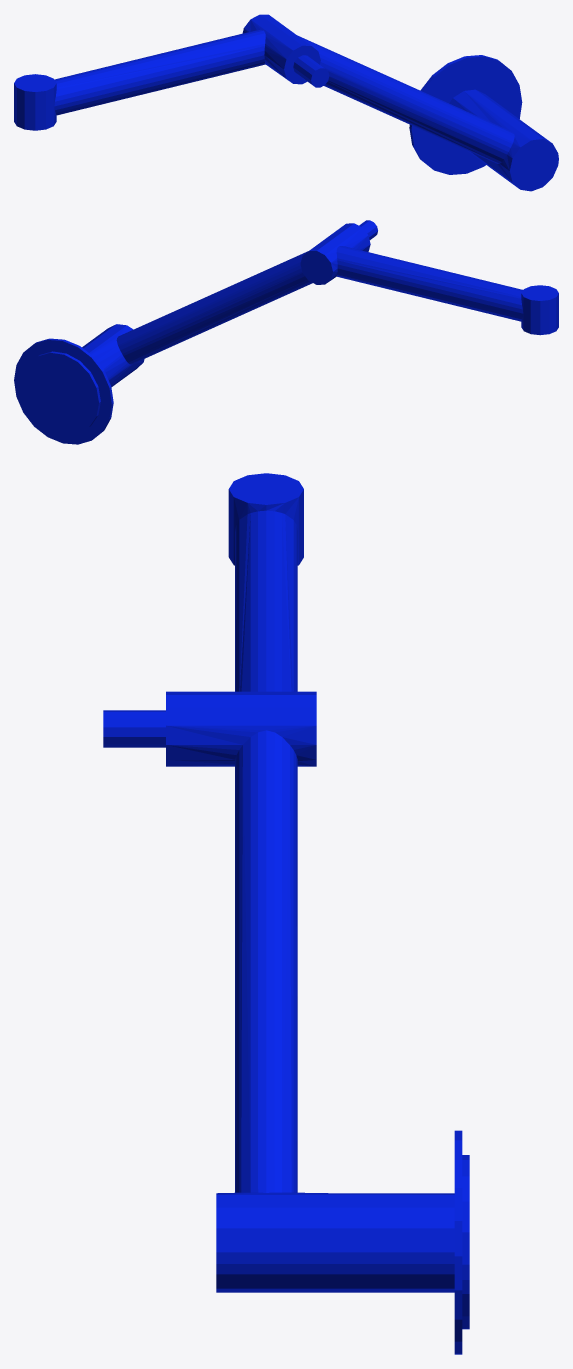
Rendered from LeftViceRocket.dae.
The picture shows the model from 3 angles, top to bottom: view 1: azimuth 30°, elevation 25°; view 2: azimuth 150°, elevation 25°; view 3: azimuth 270°, elevation 25°; orthographic projection. The views are drawn at different scales.
Parts seen in each view (by area): view 1: LeftViceRocket; view 2: LeftViceRocket; view 3: LeftViceRocket.
Boxes of the visible parts, x1,y1,x2,y2 form: LeftViceRocket: (14,14,558,191); LeftViceRocket: (14,220,558,444); LeftViceRocket: (103,473,469,1354).
Bounding box in the file's own units: 0.908 × 0.292 × 0.385.
